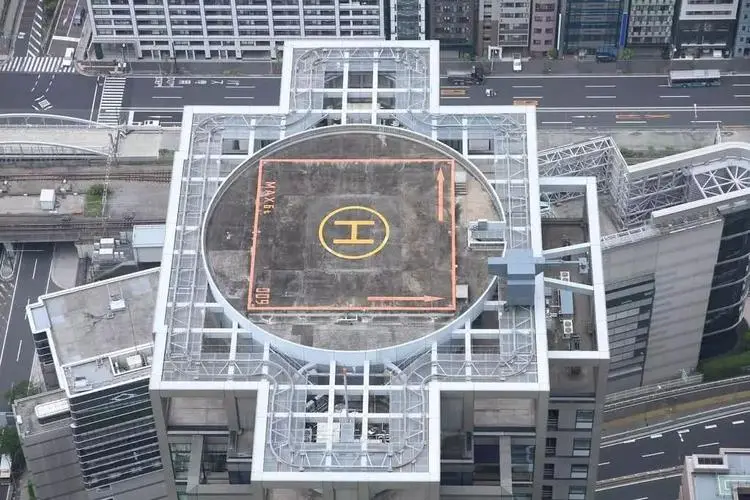Apron: (317, 204, 389, 260)
